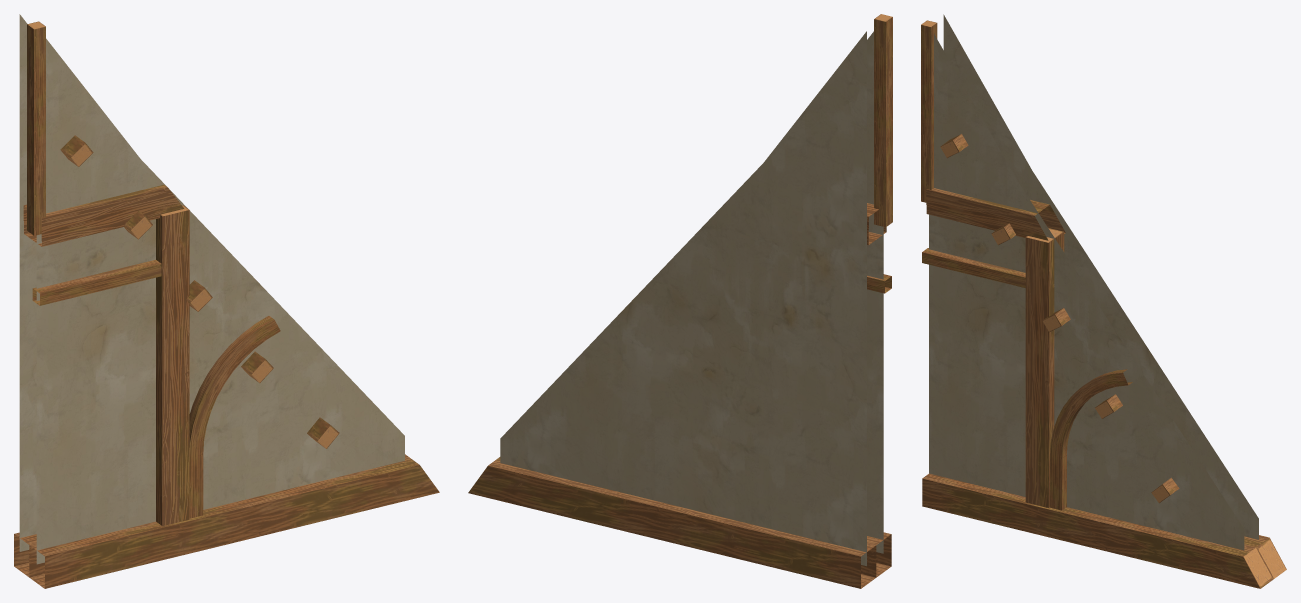
File: Roof_Front_Brick6_Half_R.gltf
3 views of the same model, side by side, from view 1: azimuth 30°, elevation 25°; view 2: azimuth 150°, elevation 25°; view 3: azimuth 330°, elevation 25° (orthographic). The views are drawn at different scales.
Visible parts, largest first — view 1: Roof_Front_Brick6_Half_R; view 2: Roof_Front_Brick6_Half_R; view 3: Roof_Front_Brick6_Half_R.
Part boxes in pixels (x1,y1,x2,y2): Roof_Front_Brick6_Half_R: (14,14,439,588); Roof_Front_Brick6_Half_R: (468,14,892,588); Roof_Front_Brick6_Half_R: (921,14,1286,588).
Bounding box in the file's own units: 3.4 × 4.52 × 0.4896.
Materials: 2 (2 with a texture image).
